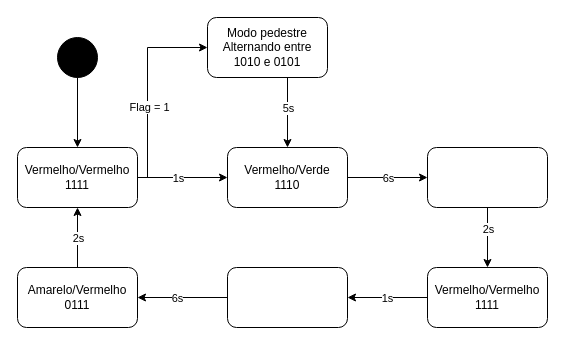
Some shapes in this 565 by 345 pixel diagram are drawn without their labels. Here are the shapes that lost their labels. From the top down, the centre of each, then its label:
pixel 487 177: Vermelho/Amarelo 1101
pixel 287 297: Verde/Vermelho 1011
